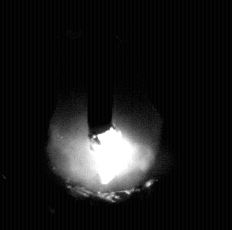arame: (88, 0, 113, 139)
poca: (48, 0, 157, 230)
